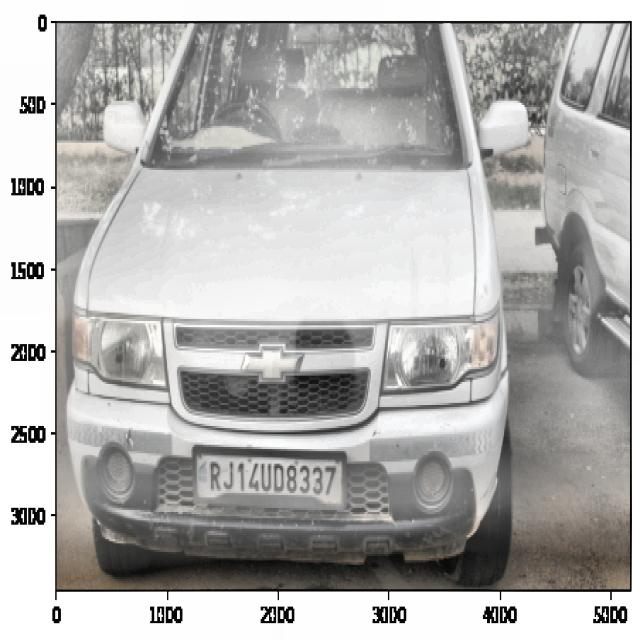license_plate: (203, 447, 341, 501)
